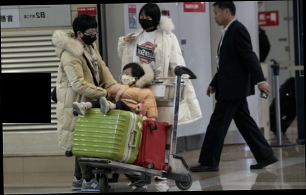with_mask: (81, 28, 98, 46), (138, 14, 154, 31), (120, 70, 135, 86)
without_mask: (212, 8, 226, 27)
